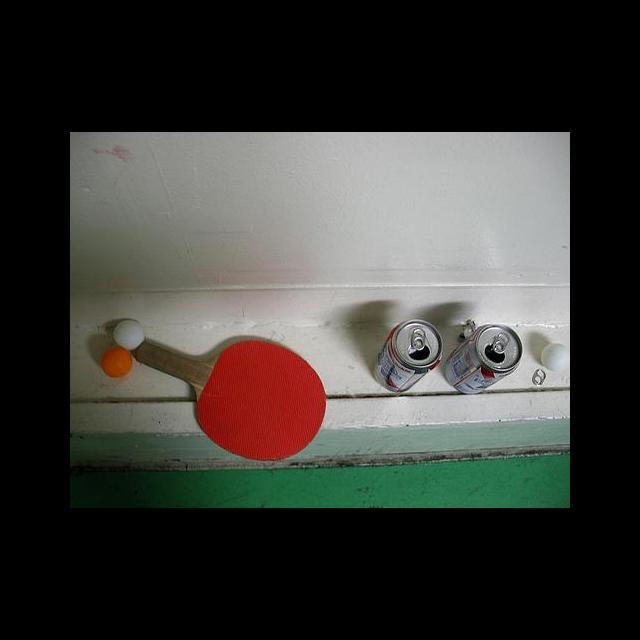ping-pong-ball: (110, 319, 146, 352), (100, 348, 132, 376)
